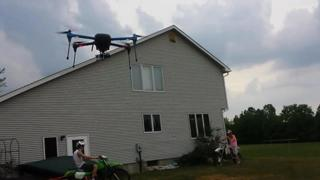UAV: (56, 30, 144, 70)
